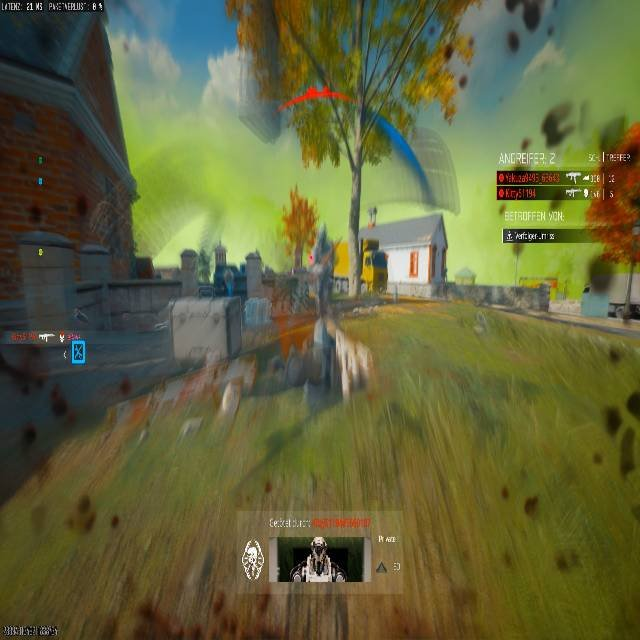head: (310, 536, 327, 555)
player: (289, 536, 344, 582), (71, 305, 89, 325)
